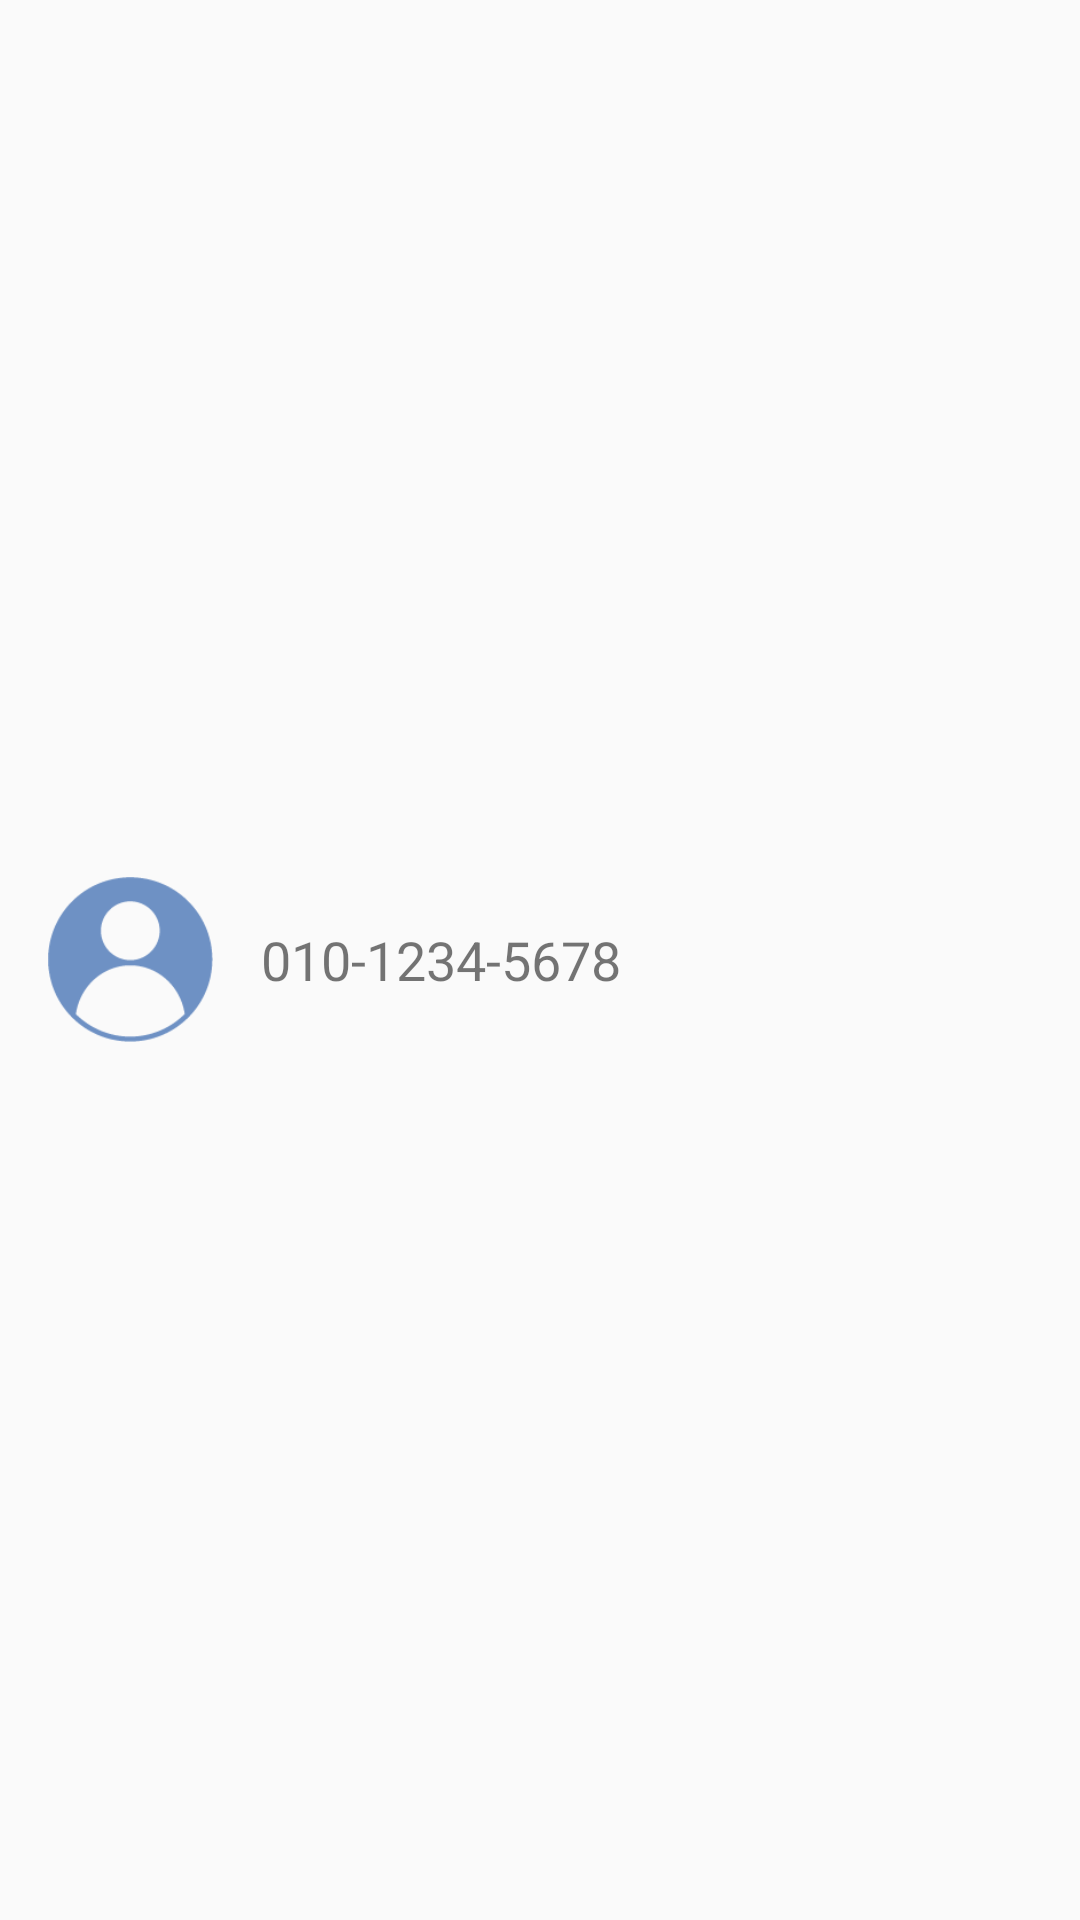

Icons on this 1080px×1920px Android screen, each with its box as box=[x1, y1, x2, y2]:
uesr: box=[48, 877, 213, 1042]
